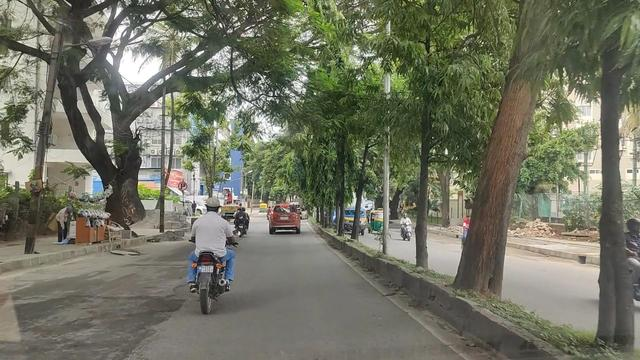LMV: (194, 201, 227, 312), (274, 204, 302, 234)
RoadDamages: (68, 310, 171, 357), (108, 244, 141, 259)
